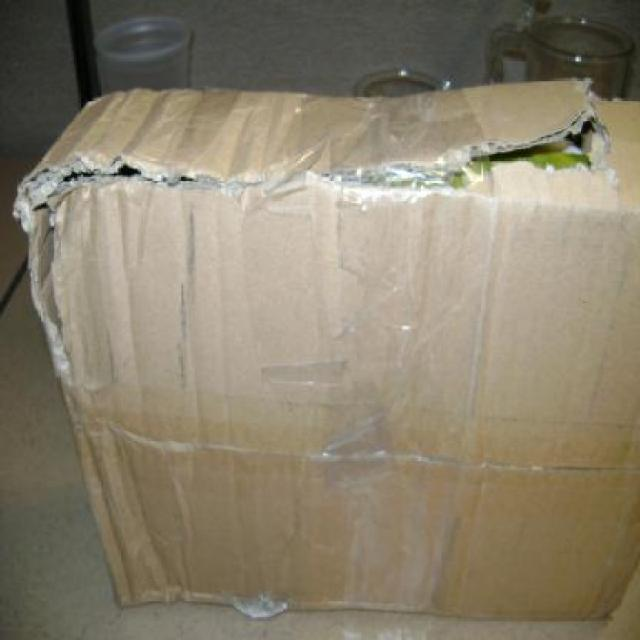box: (203, 78, 432, 584)
